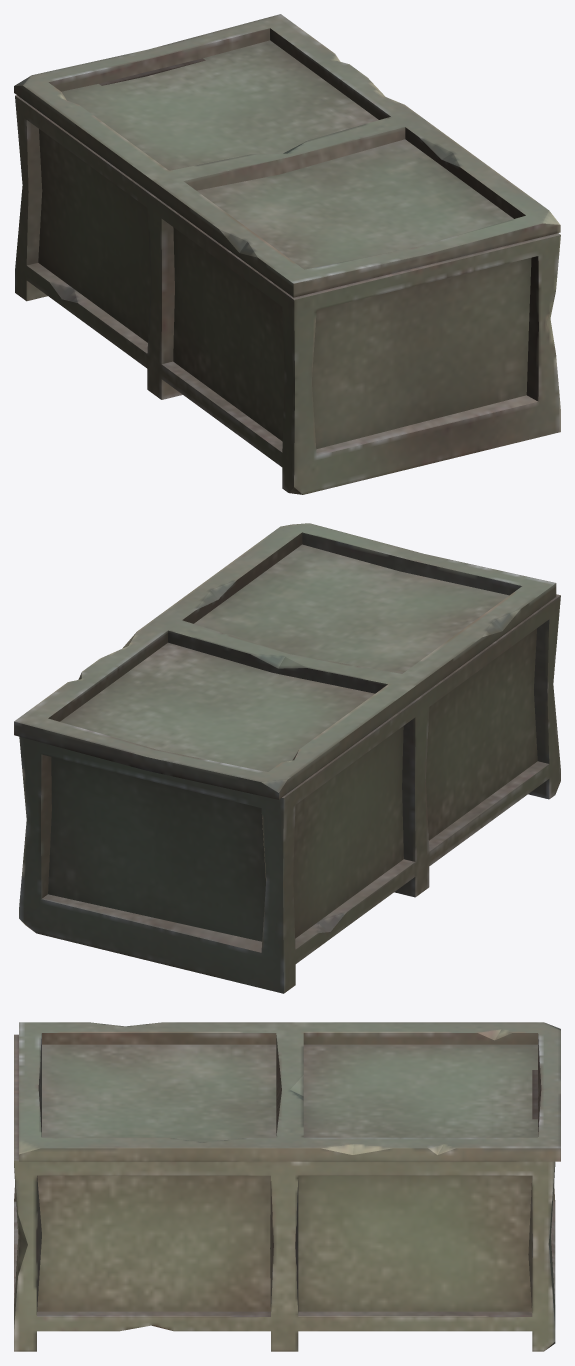
File: BoxBig.fbx
The picture shows the model from 3 angles, top to bottom: view 1: azimuth 30°, elevation 25°; view 2: azimuth 150°, elevation 25°; view 3: azimuth 270°, elevation 25°; orthographic projection. The views are drawn at different scales.
Visible parts, largest first — view 1: BoxBig, BoxBigTop; view 2: BoxBig, BoxBigTop; view 3: BoxBig, BoxBigTop.
Boxes of the visible parts, x1,y1,x2,y2 form: BoxBig: (15,58,560,494); BoxBigTop: (14,14,560,297); BoxBig: (19,594,560,993); BoxBigTop: (14,523,556,799); BoxBig: (14,1034,555,1351); BoxBigTop: (19,1022,560,1161).
Size of the model in its own units: 87.84 by 65.83 by 160.
